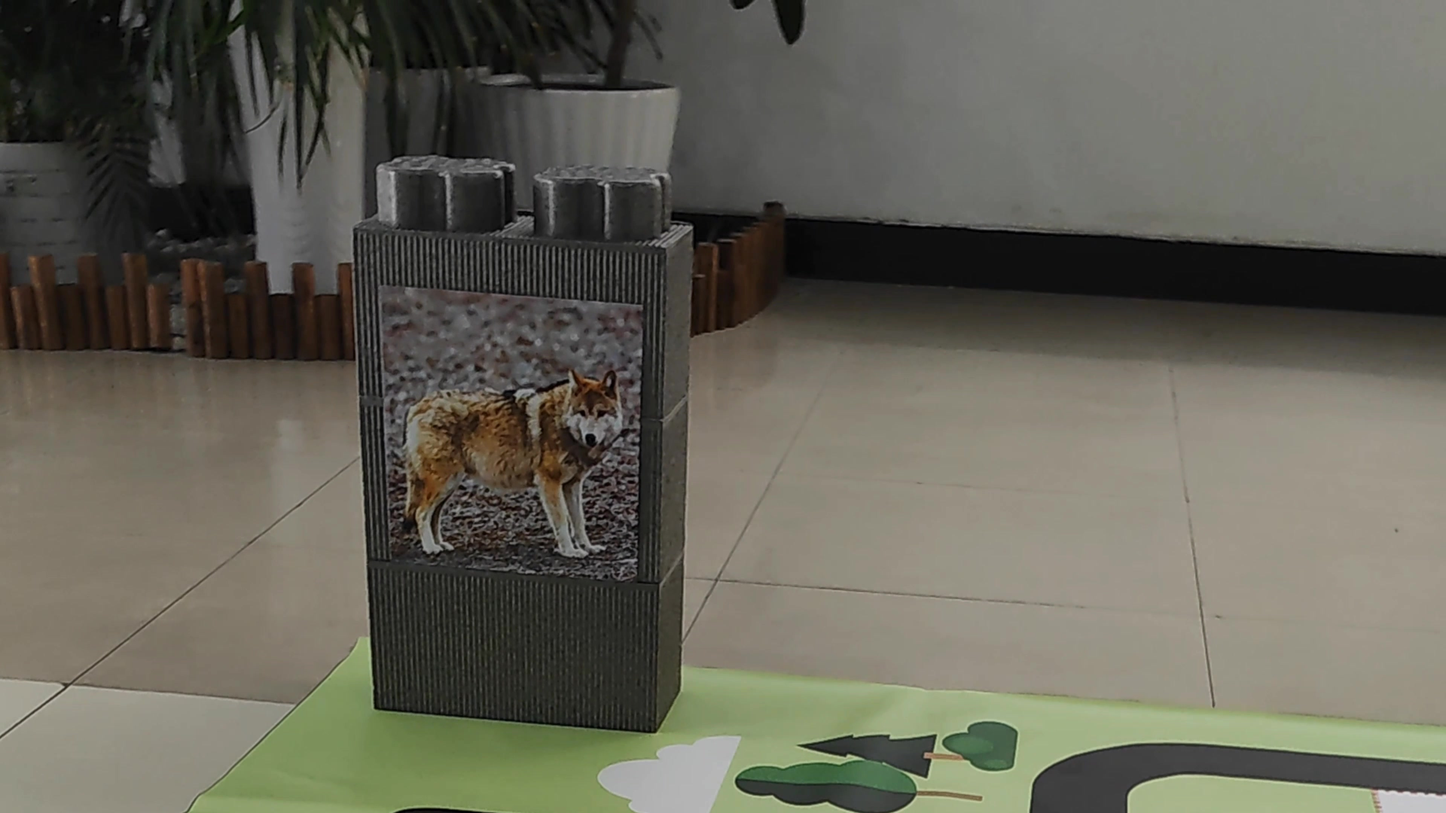wolf: (398, 286, 629, 563)
